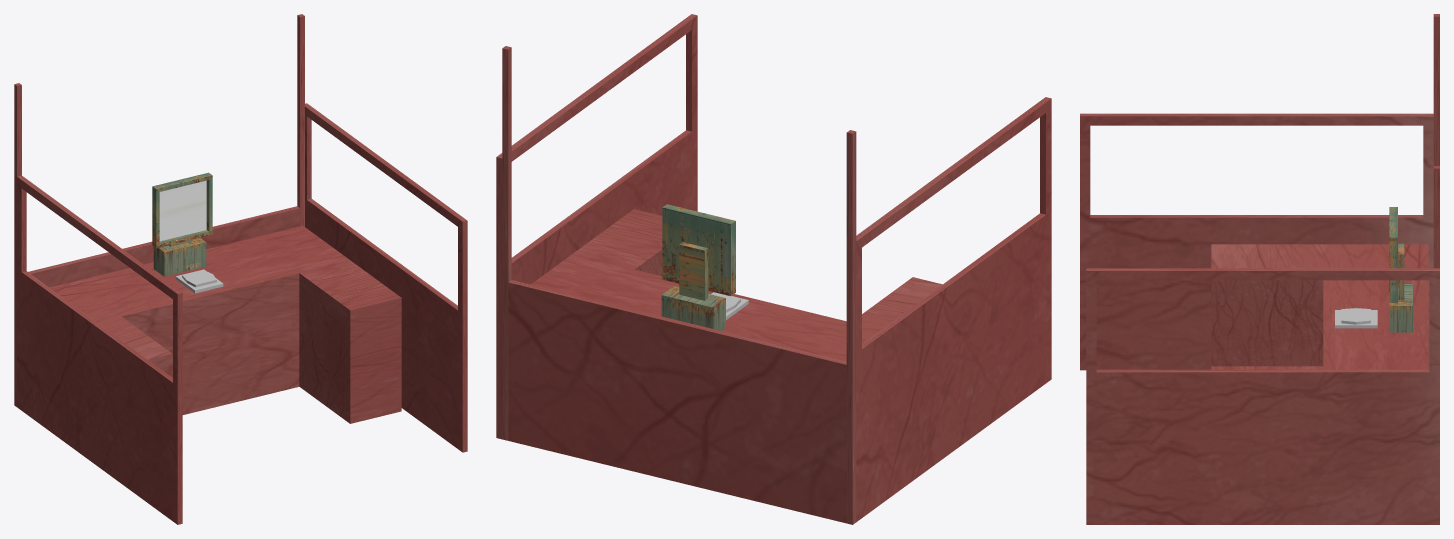
Rendered from CUBI.fbx.
3 views of the same model, side by side, from view 1: azimuth 30°, elevation 25°; view 2: azimuth 150°, elevation 25°; view 3: azimuth 270°, elevation 25° (orthographic). The views are drawn at different scales.
Parts seen in each view (by area): view 1: Cube.017, Cube.021, Cube.016; view 2: Cube.017; view 3: Cube.017, Cube.016.
Part boxes in pixels (x1=…): Cube.017: x1=14, y1=14, x2=467, y2=524; Cube.021: x1=159, y1=180, x2=206, y2=241; Cube.016: x1=175, y1=269, x2=223, y2=293; Cube.017: x1=496, y1=14, x2=1051, y2=524; Cube.017: x1=1080, y1=14, x2=1439, y2=524; Cube.016: x1=1335, y1=308, x2=1377, y2=328.
Bounding box in the file's own units: 1037 × 1087 × 1002.
